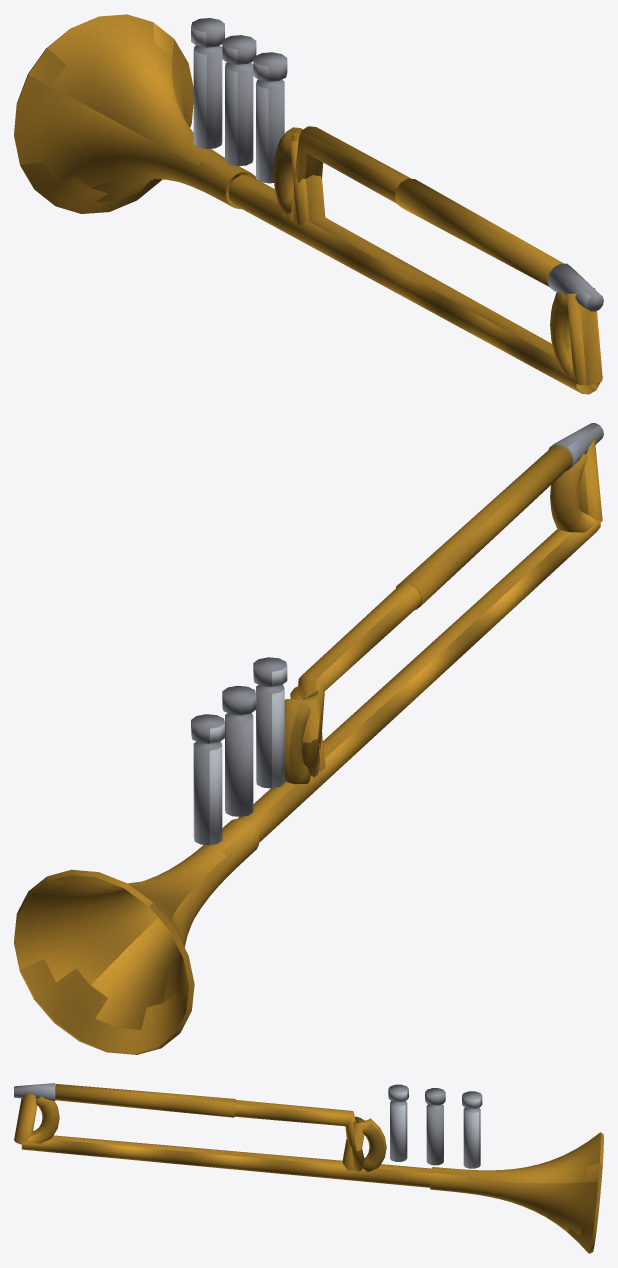
File: banda_trompeta.obj
3 renders of one model, top to bottom at view 1: azimuth 30°, elevation 25°; view 2: azimuth 150°, elevation 25°; view 3: azimuth 270°, elevation 25°, orthographic. The views are drawn at different scales.
Visible parts, largest first — view 1: banda_trompeta; view 2: banda_trompeta; view 3: banda_trompeta.
Part boxes in pixels (bbox=[...]): banda_trompeta: bbox=[14, 14, 603, 394]; banda_trompeta: bbox=[14, 423, 603, 1054]; banda_trompeta: bbox=[14, 1083, 603, 1253].
Bounding box in the file's own units: 0.15 × 0.2213 × 0.7181.
2 materials, 2 textured.
